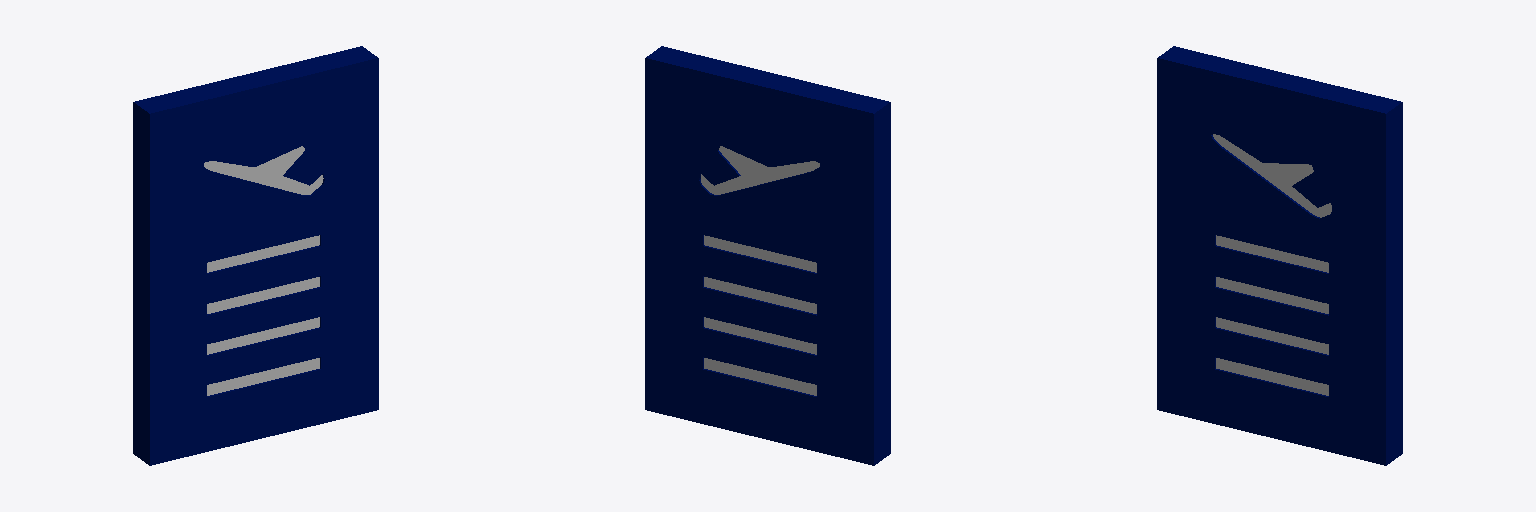
Rendered from checkin.obj.
3 renders of one model, left to right at view 1: azimuth 30°, elevation 25°; view 2: azimuth 150°, elevation 25°; view 3: azimuth 330°, elevation 25°, orthographic.
Bounding box in the file's own units: 3.24 × 4.76 × 0.4.